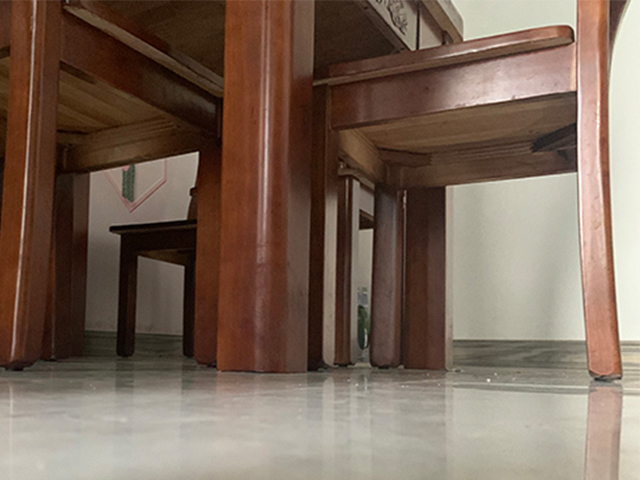stool: (311, 1, 629, 381)
